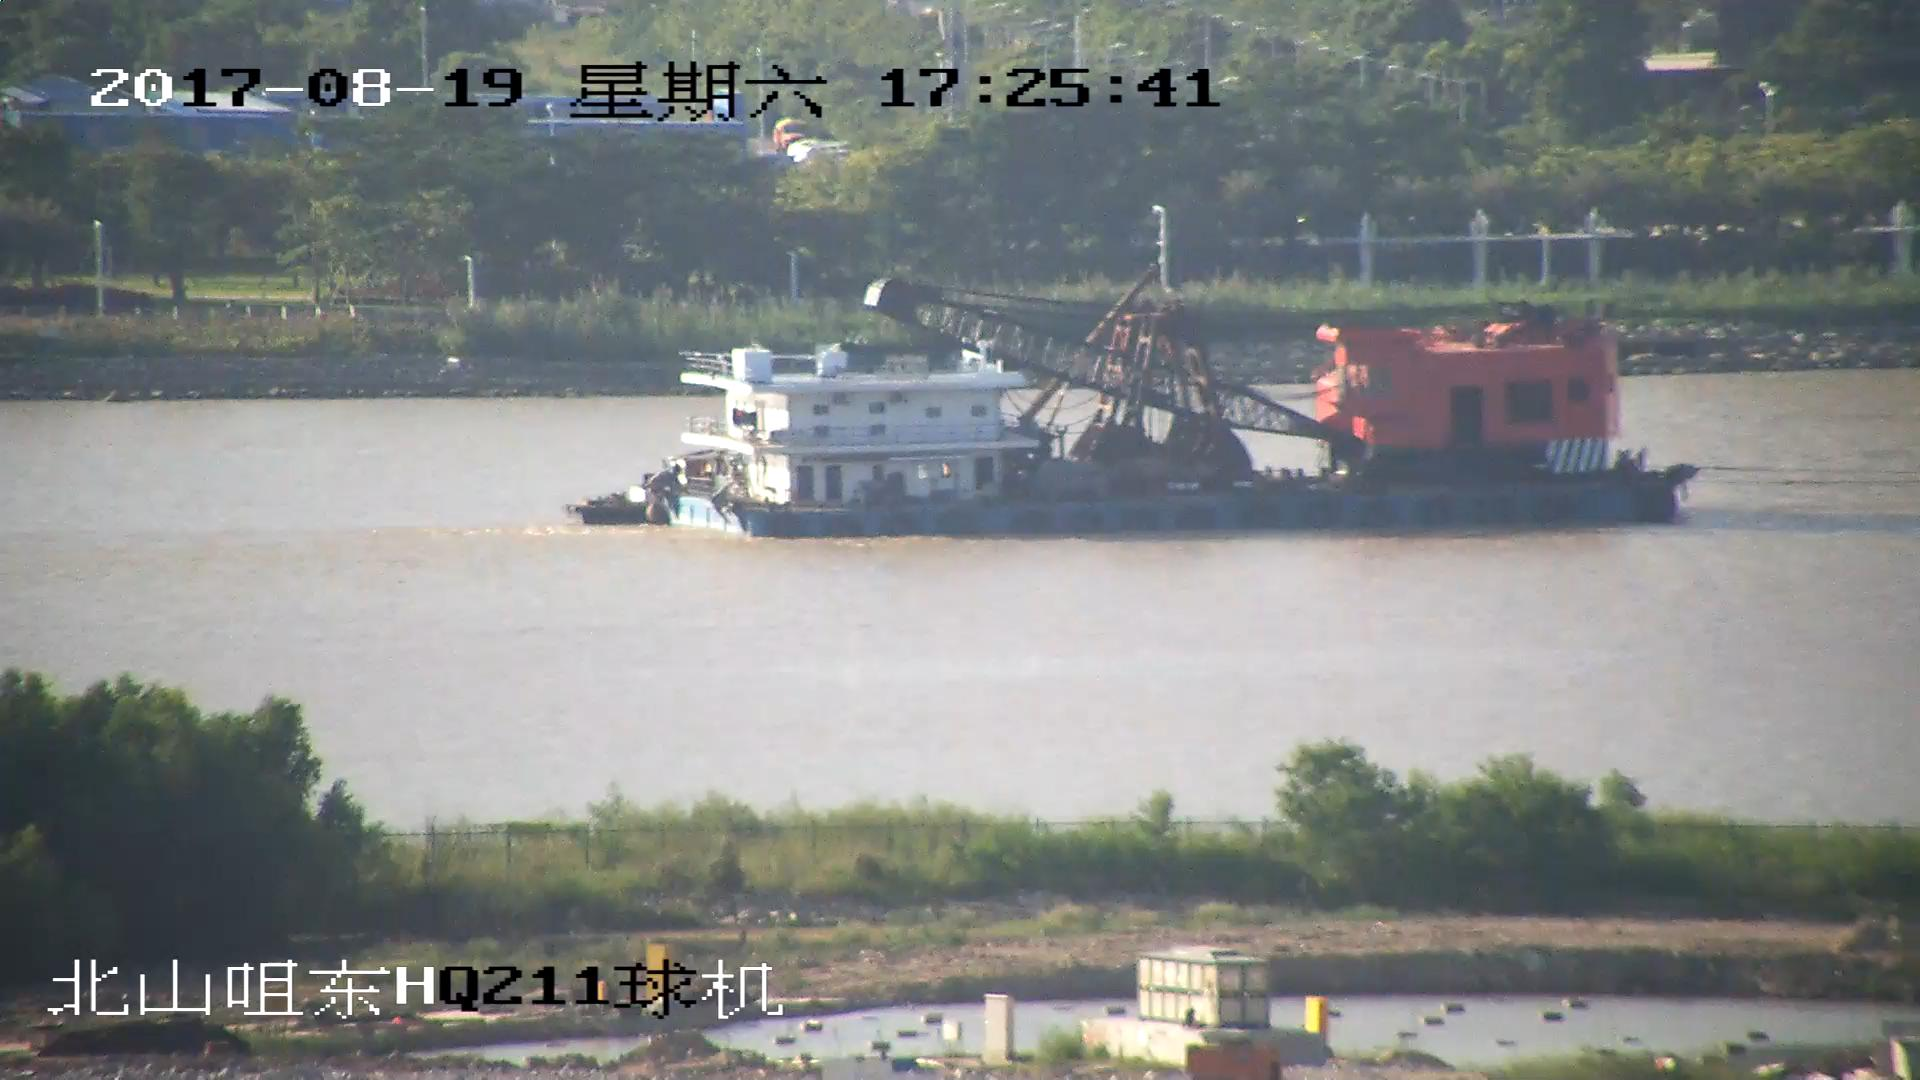fishing boat: (575, 217, 1699, 540)
